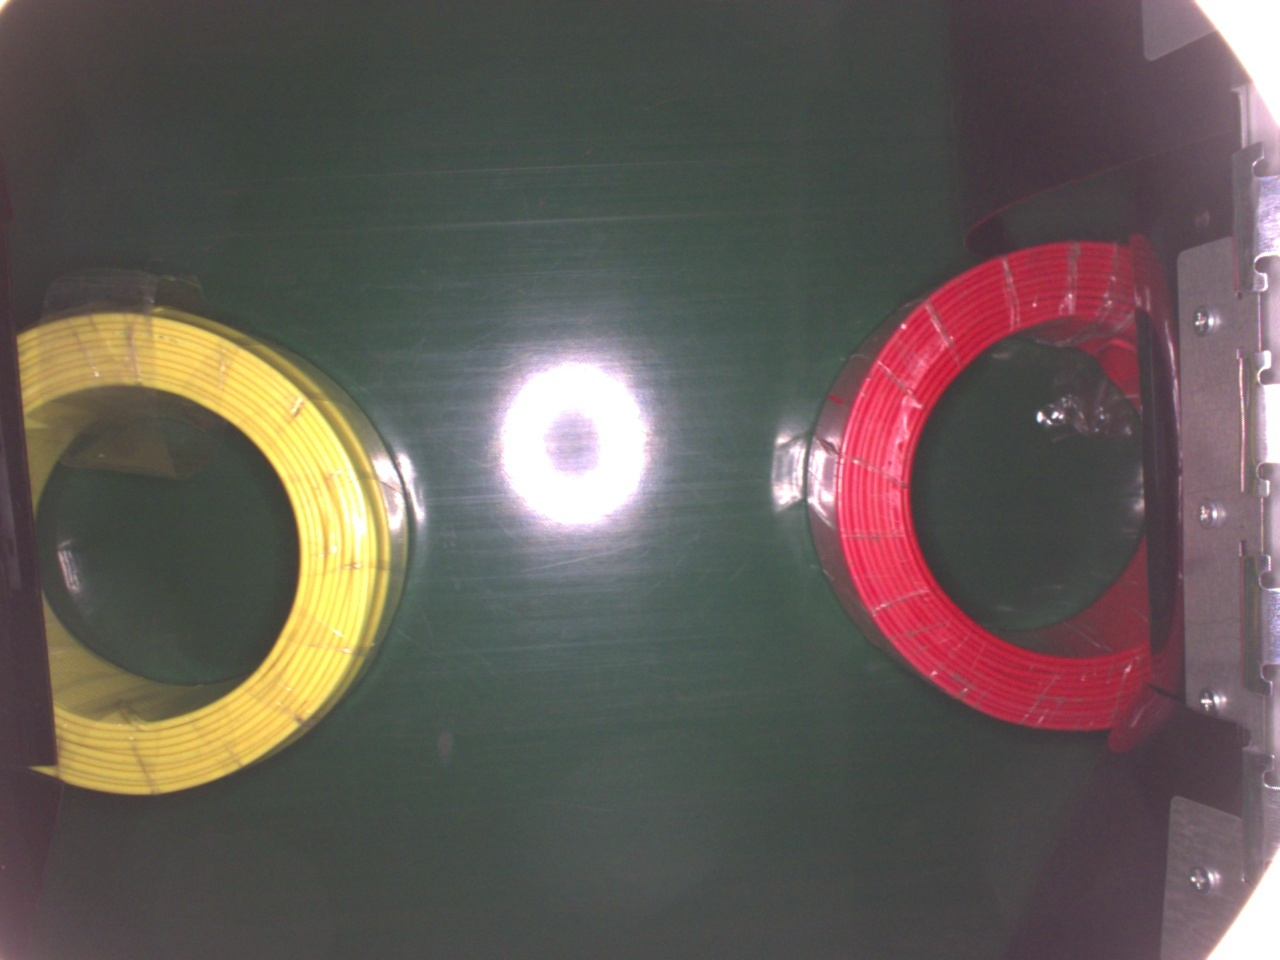red: (804, 236, 1164, 733)
yellow: (8, 299, 411, 804)
